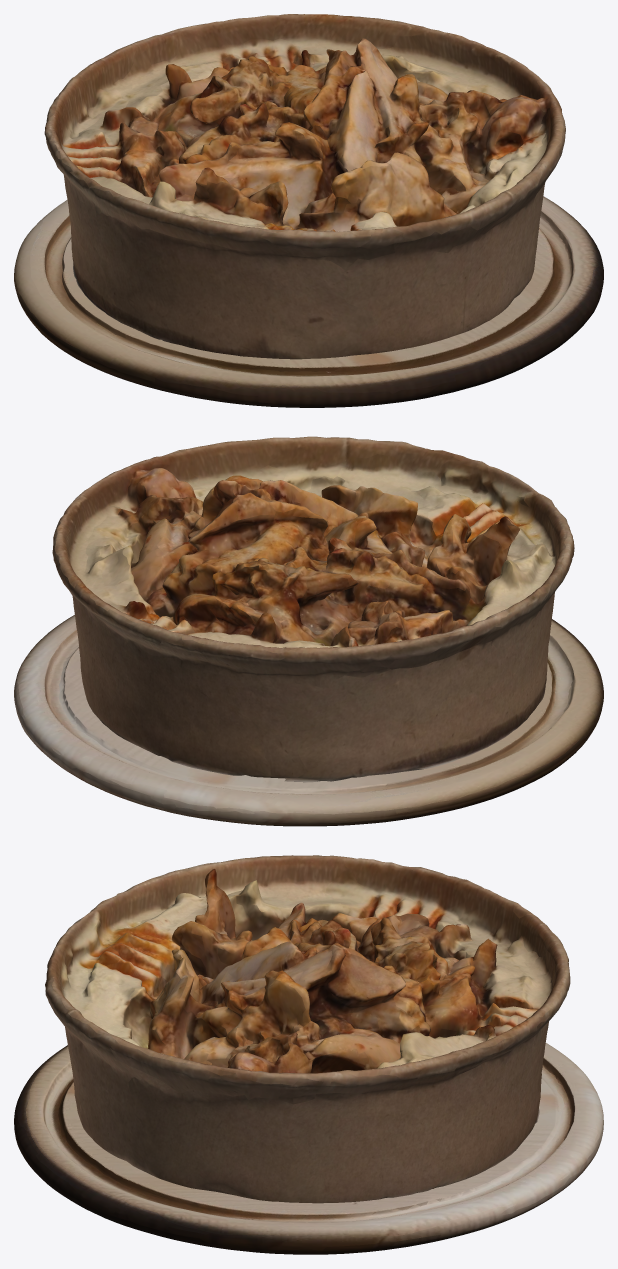
File: Humos.chicken.shawerma.glb
The picture shows the model from 3 angles, top to bottom: view 1: azimuth 30°, elevation 25°; view 2: azimuth 150°, elevation 25°; view 3: azimuth 270°, elevation 25°; orthographic projection.
Parts seen in each view (by area): view 1: /Root/Scenes/Scene/Object_37/Object_38/Submesh_0, /Root/Scenes/Scene/Object_37/Object_41/Submesh_0; view 2: /Root/Scenes/Scene/Object_37/Object_38/Submesh_0, /Root/Scenes/Scene/Object_37/Object_41/Submesh_0; view 3: /Root/Scenes/Scene/Object_37/Object_38/Submesh_0, /Root/Scenes/Scene/Object_37/Object_41/Submesh_0.
Part boxes in pixels (box(x1,y1,x2,y2)): /Root/Scenes/Scene/Object_37/Object_38/Submesh_0: box(44, 14, 565, 359); /Root/Scenes/Scene/Object_37/Object_41/Submesh_0: box(14, 196, 603, 407); /Root/Scenes/Scene/Object_37/Object_38/Submesh_0: box(52, 436, 574, 782); /Root/Scenes/Scene/Object_37/Object_41/Submesh_0: box(14, 615, 603, 826); /Root/Scenes/Scene/Object_37/Object_38/Submesh_0: box(45, 855, 570, 1203); /Root/Scenes/Scene/Object_37/Object_41/Submesh_0: box(14, 1043, 603, 1254).
Size of the model in its own units: 0.194 by 0.0803 by 0.194.
Materials: 2 (2 with a texture image).
